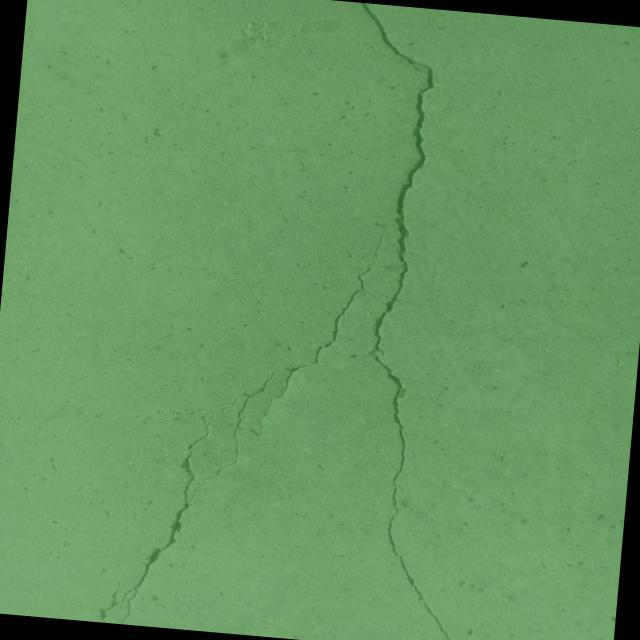crack: (302, 2, 509, 640), (118, 199, 388, 640), (96, 578, 122, 624), (170, 405, 203, 423), (208, 461, 235, 482)
